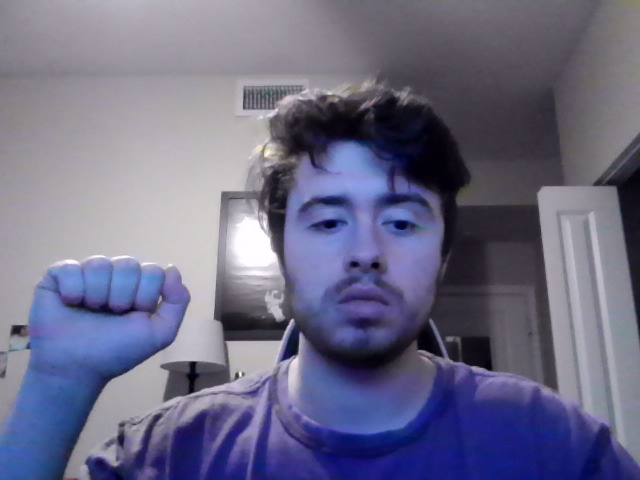a: (28, 254, 191, 384)
